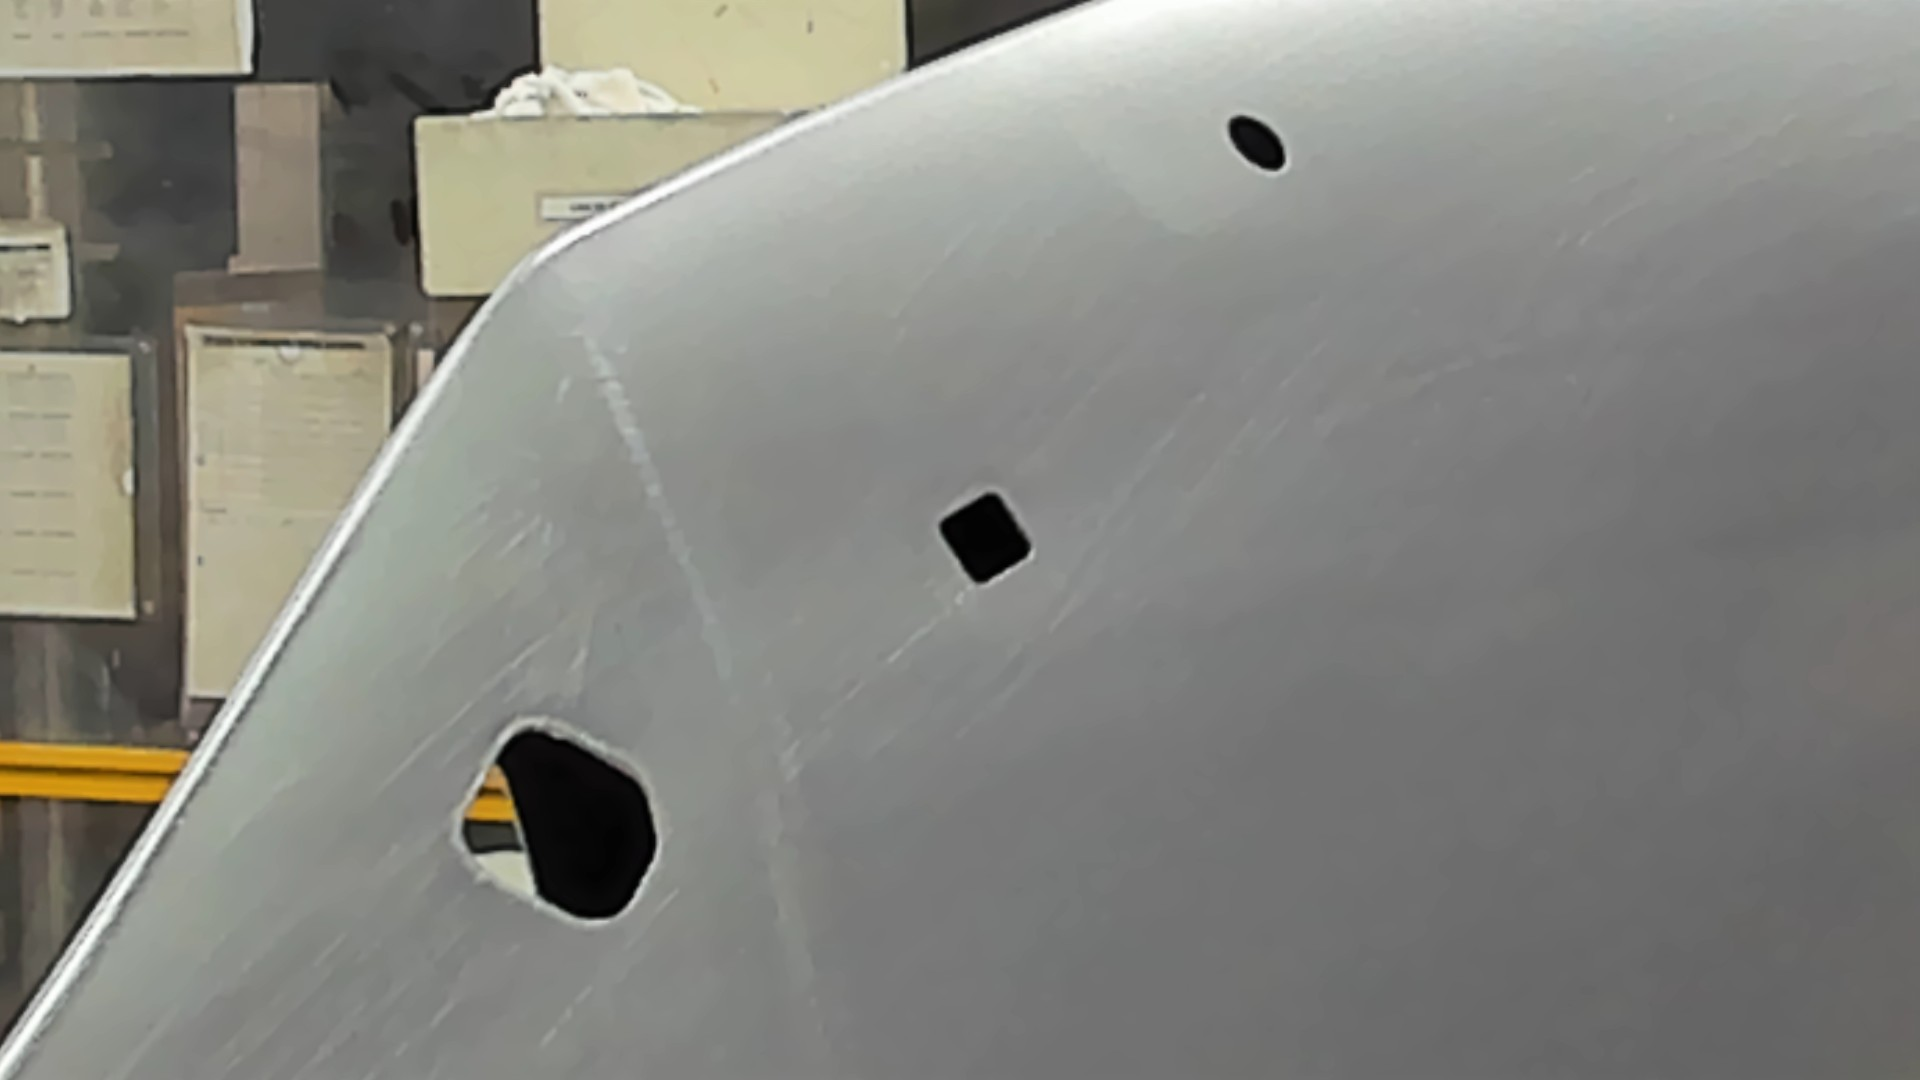chico: (1222, 108, 1291, 175)
grande: (447, 712, 669, 935)
mediano: (931, 485, 1036, 593)
